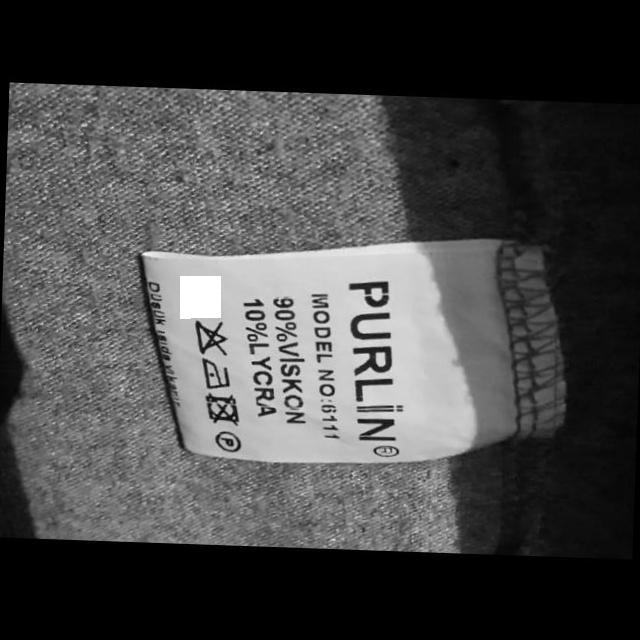DN_bleach: (192, 318, 230, 356)
DN_tumble_dry: (202, 392, 240, 425)
iron_low: (198, 356, 232, 391)
normal_dry_clean_solvents: (211, 429, 242, 453)
